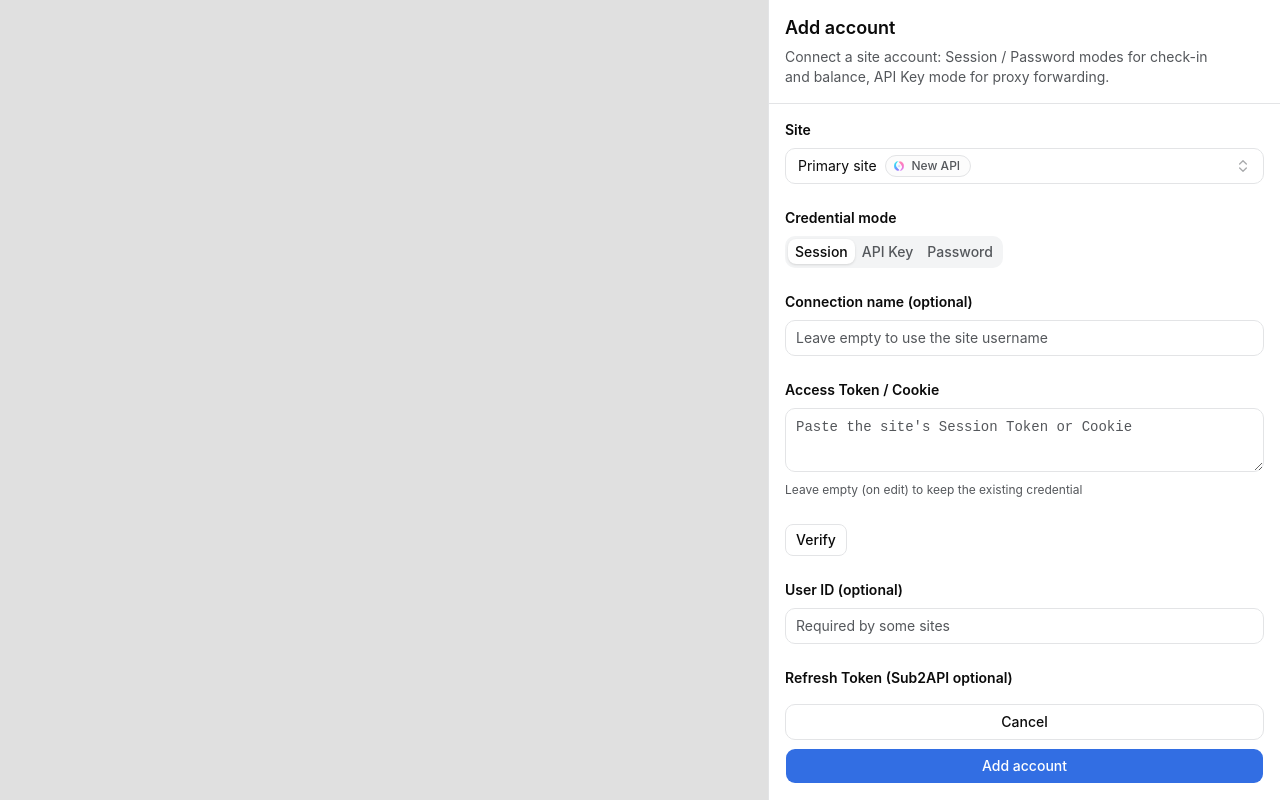
it: AccountFormDialog credential verification › does not expose inline verification in password mode
Click the tab "Password".
click(960, 252)  # box [920,239,1000,264]
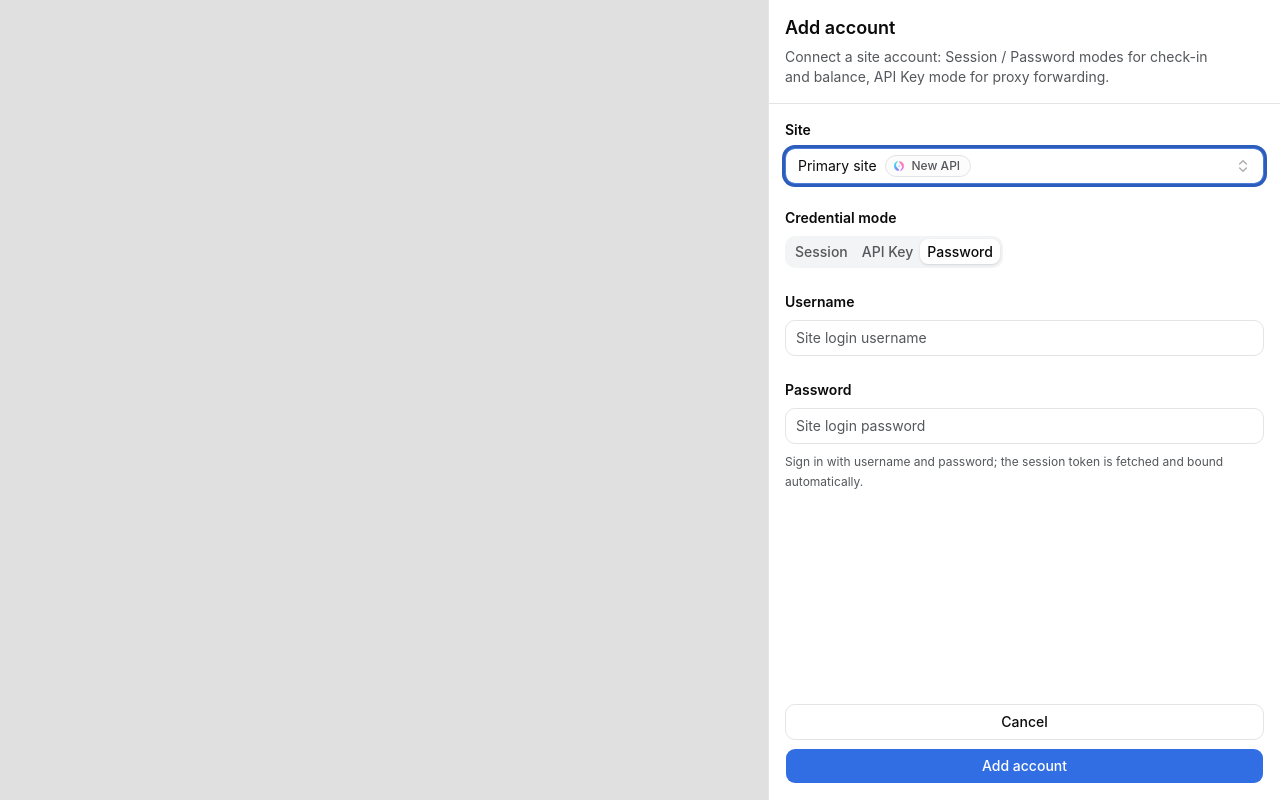
Expected: the button "Verify" is gone
